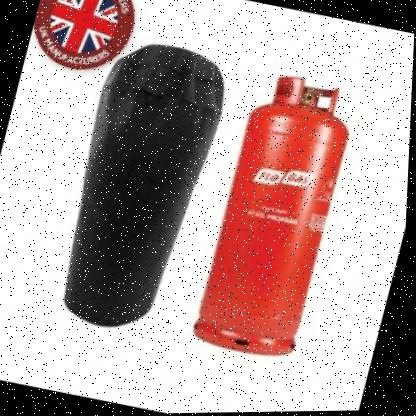gas-tank: (188, 60, 374, 373)
